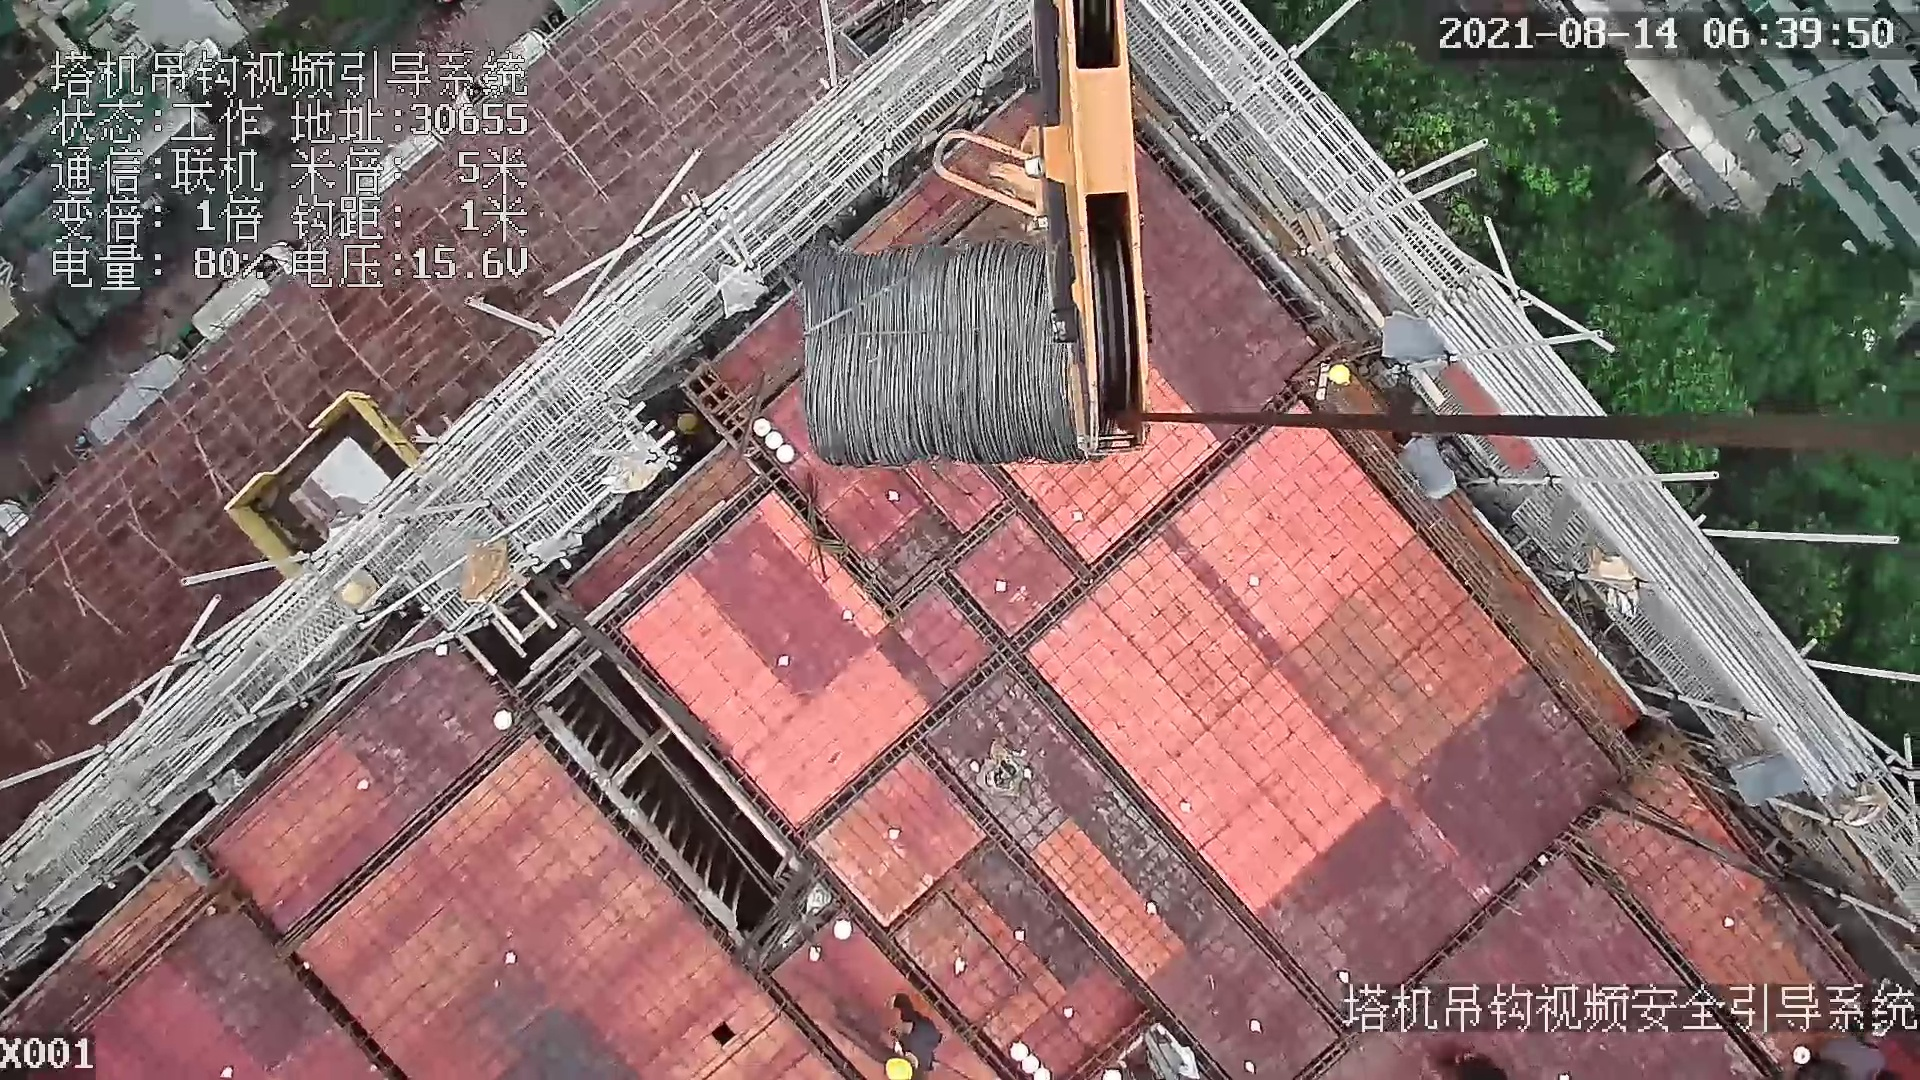helmet: (877, 1049, 910, 1080)
hook: (932, 3, 1159, 453)
person: (1392, 422, 1469, 508)
